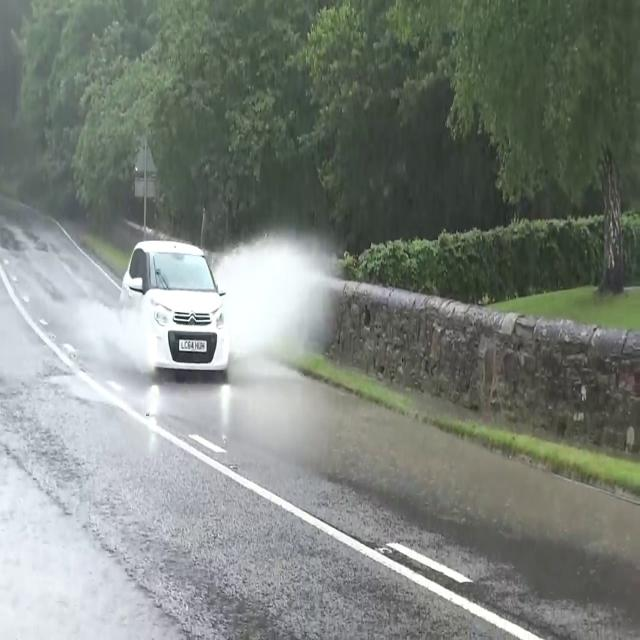license-plate-annotation: (178, 336, 209, 352)
